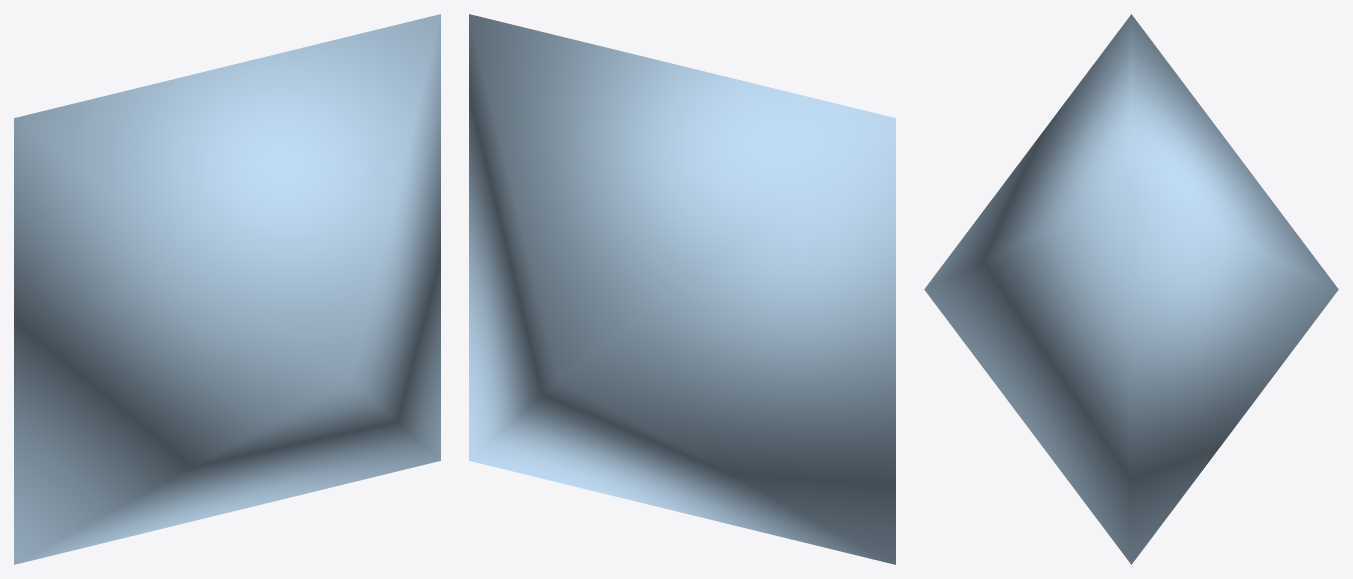
Rendered from wulfenite.glb.
The picture shows the model from 3 angles, left to right: view 1: azimuth 30°, elevation 25°; view 2: azimuth 150°, elevation 25°; view 3: azimuth 270°, elevation 25°; orthographic projection. The views are drawn at different scales.
Visible parts, largest first — view 1: wulfenite; view 2: wulfenite; view 3: wulfenite.
Part boxes in pixels (x1,y1,x2,y2): wulfenite: [14, 14, 440, 564]; wulfenite: [469, 14, 895, 564]; wulfenite: [924, 14, 1338, 564].
Size of the model in its own units: 1.13 by 1.13 by 1.13.
